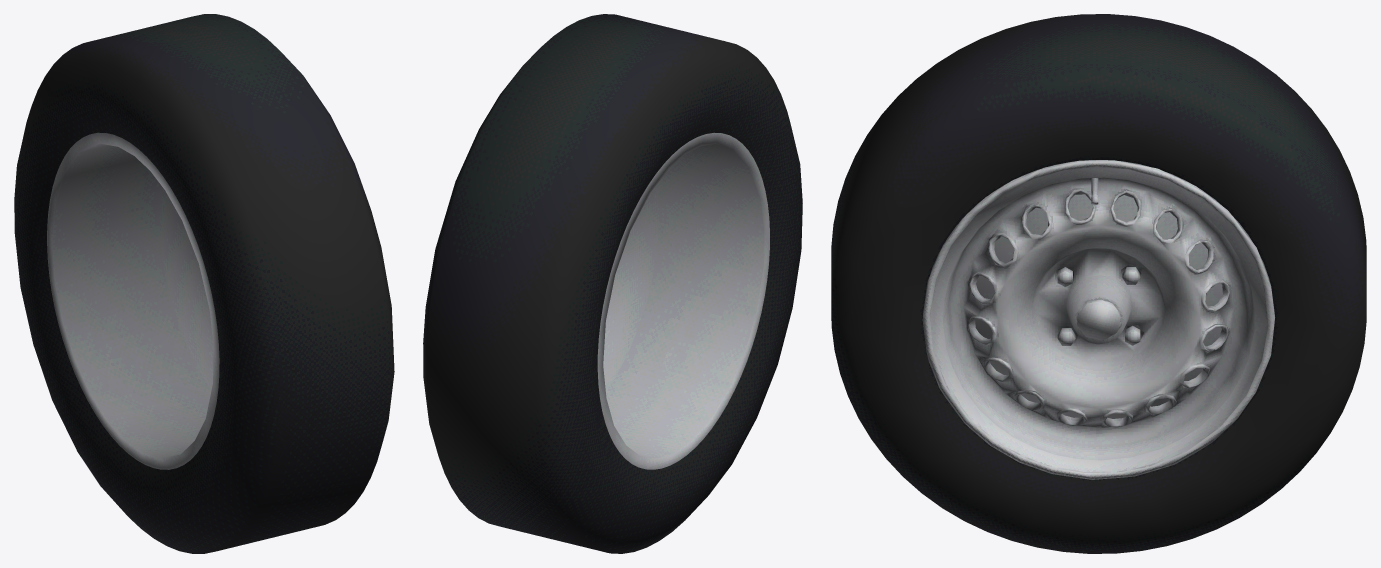
File: wheel_front_right.glb
3 views of the same model, side by side, from view 1: azimuth 30°, elevation 25°; view 2: azimuth 150°, elevation 25°; view 3: azimuth 270°, elevation 25° (orthographic). The views are drawn at different scales.
Parts seen in each view (by area): view 1: Alfa1750_Wheel_front_right; view 2: Alfa1750_Wheel_front_right; view 3: Alfa1750_Wheel_front_right.
Part boxes in pixels (x1=…): Alfa1750_Wheel_front_right: x1=14, y1=14, x2=394, y2=553; Alfa1750_Wheel_front_right: x1=423, y1=14, x2=802, y2=553; Alfa1750_Wheel_front_right: x1=831, y1=14, x2=1366, y2=553.
Size of the model in its own units: 0.2106 by 0.6205 by 0.6205.
Materials: 1 (1 with a texture image).
